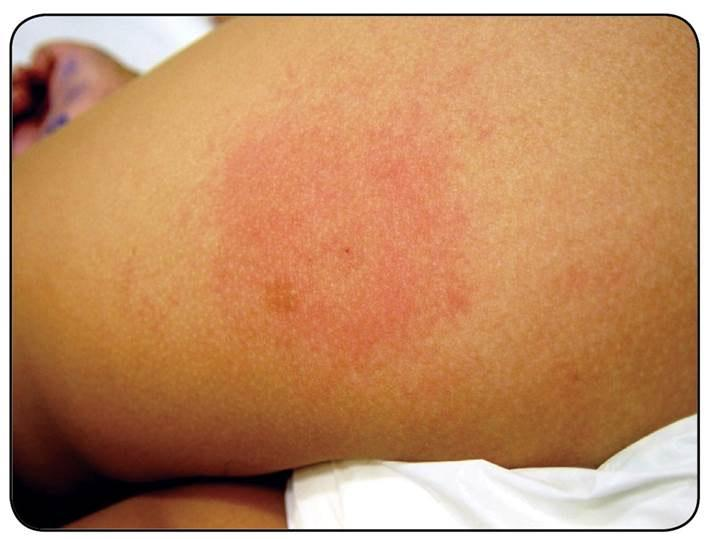Scorpion: (228, 132, 469, 344)
